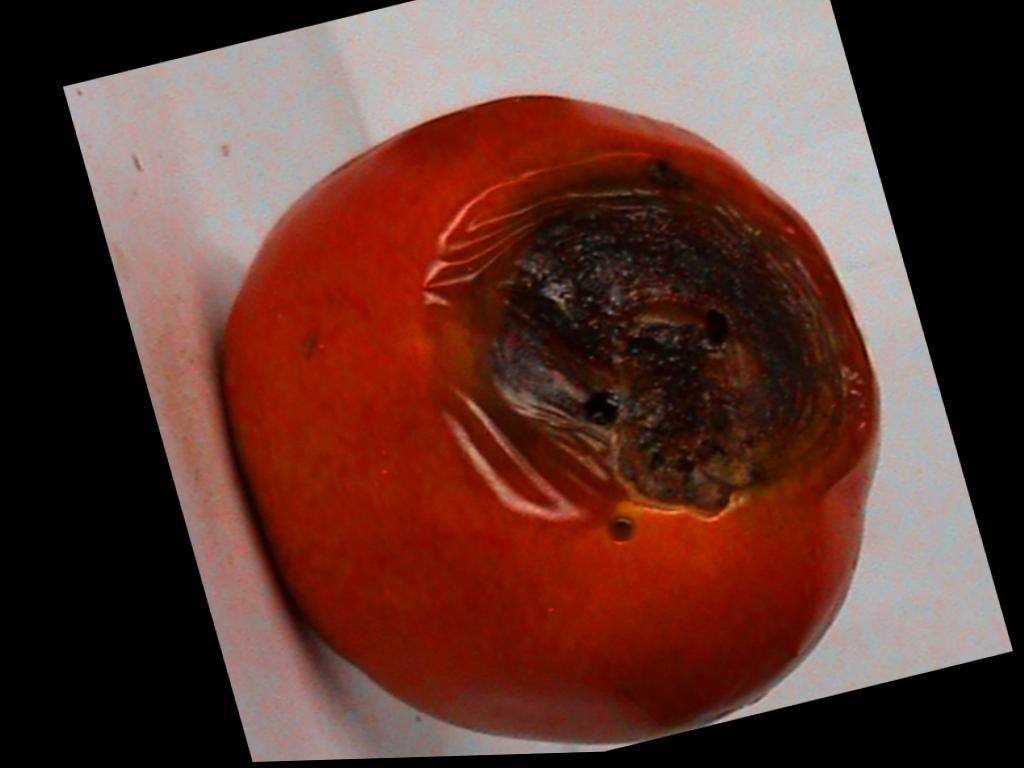rot_mold_decay: (491, 162, 840, 514)
tomato: (226, 96, 877, 743)
